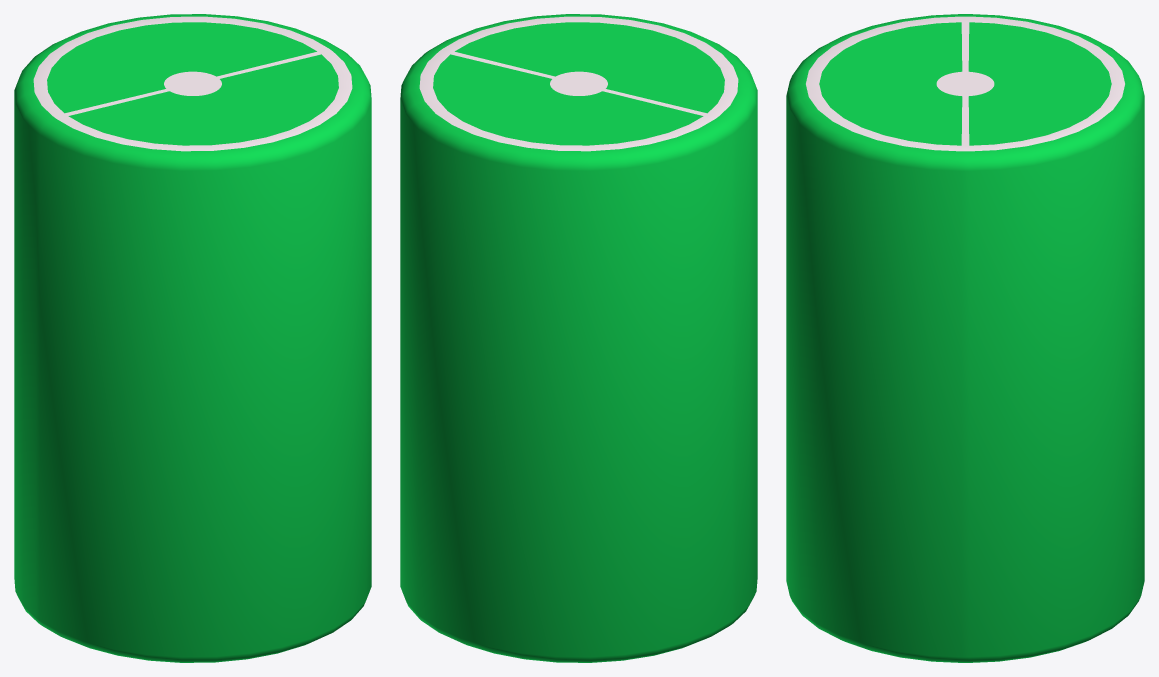
Rendered from SpinnerSoccer_Cylinder.fbx.
The picture shows the model from 3 angles, left to right: view 1: azimuth 30°, elevation 25°; view 2: azimuth 150°, elevation 25°; view 3: azimuth 270°, elevation 25°; orthographic projection.
Parts seen in each view (by area): view 1: Cylinder; view 2: Cylinder; view 3: Cylinder.
Part boxes in pixels (x1,y1,x2,y2): Cylinder: [14, 14, 371, 662]; Cylinder: [400, 14, 757, 662]; Cylinder: [786, 14, 1144, 662].
Size of the model in its own units: 9.05 by 14.21 by 9.06.
